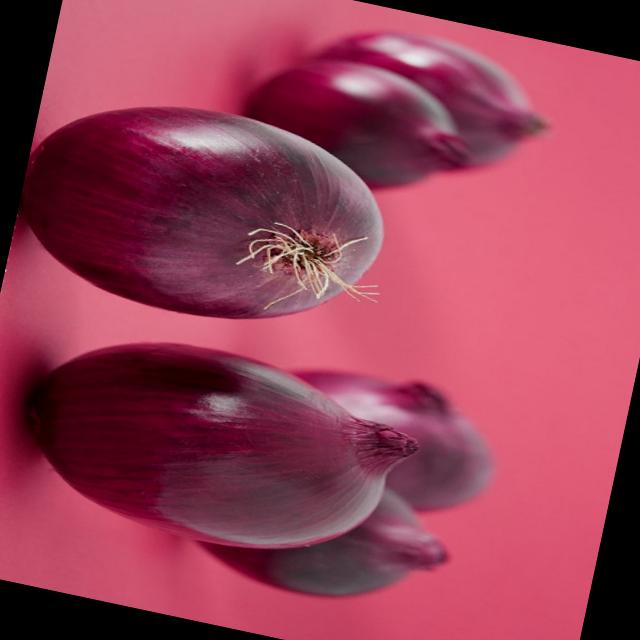onion: (0, 308, 437, 591), (3, 73, 400, 355), (194, 461, 470, 640), (226, 41, 488, 212), (282, 346, 510, 523)
